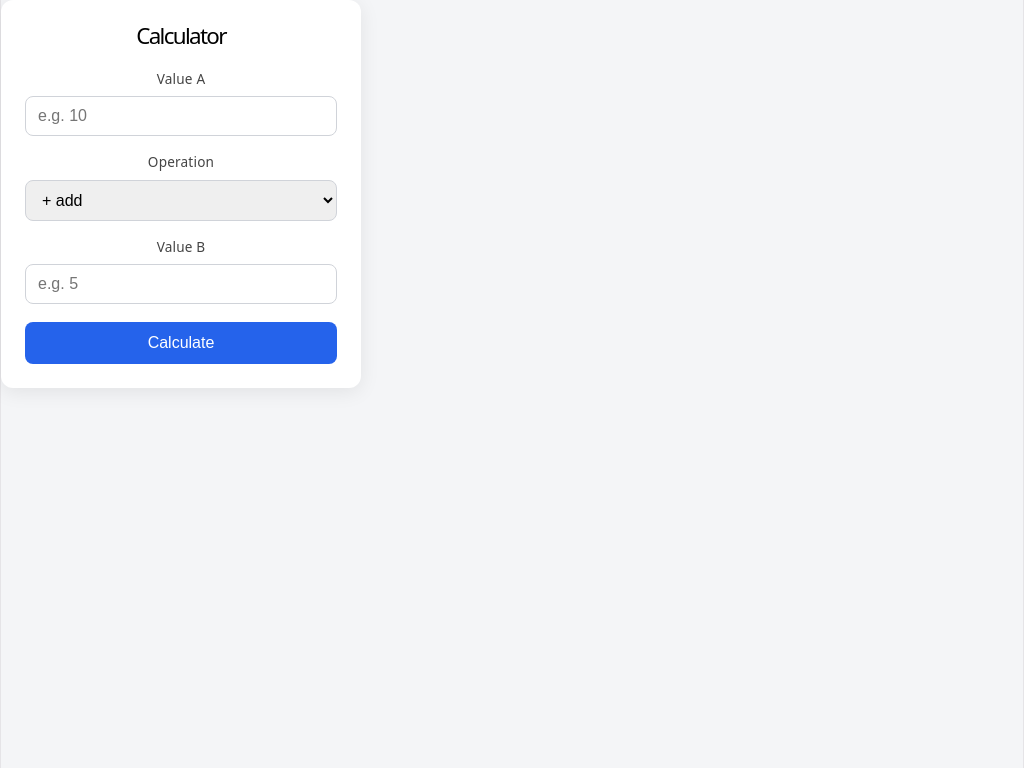
Test case: Calculator › hides Value B for sqrt operation
Select "√ sqrt" in the dropdown labelled "Operation" at (181, 200), box [25,180,337,221]
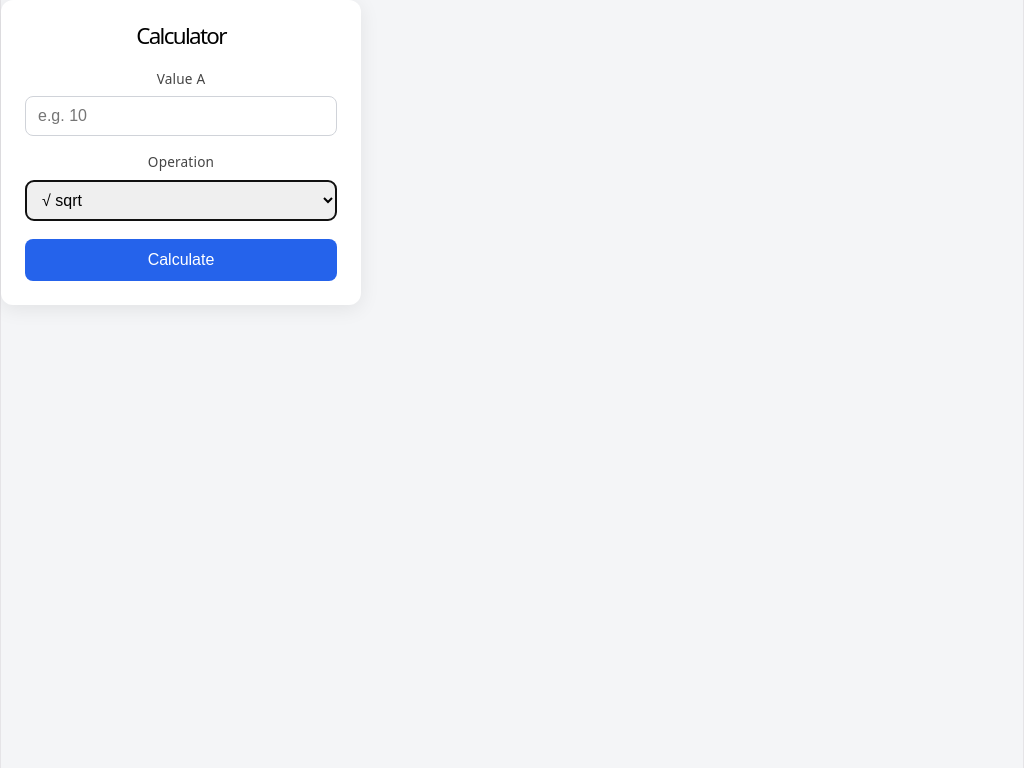
Expected: the label labelled "Value B" is gone
